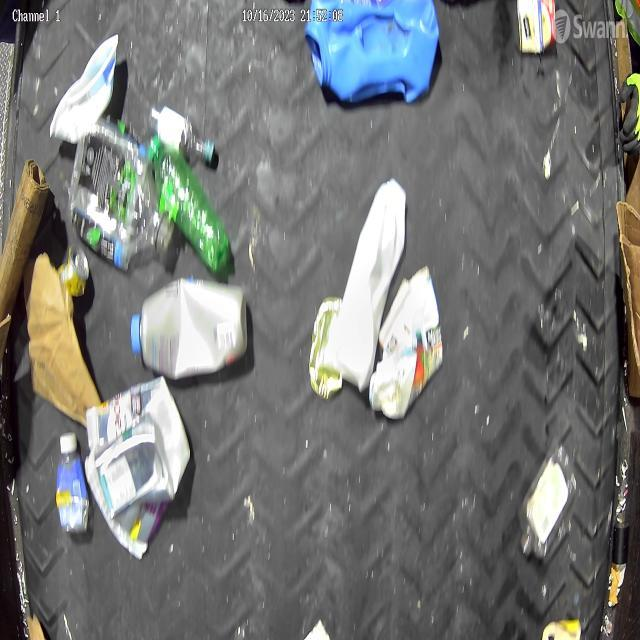can: (307, 293, 345, 401), (514, 0, 558, 58), (57, 240, 90, 302)
non_white_jug: (317, 174, 409, 394), (304, 0, 441, 106)
plastic_bottle: (67, 117, 176, 273), (148, 100, 220, 164)
